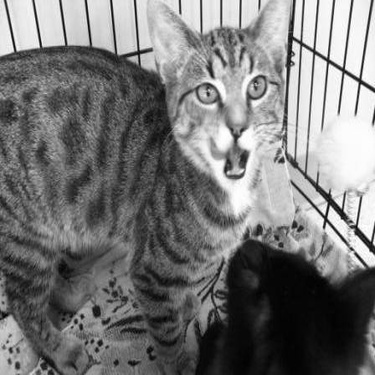cat: (1, 15, 287, 364)
